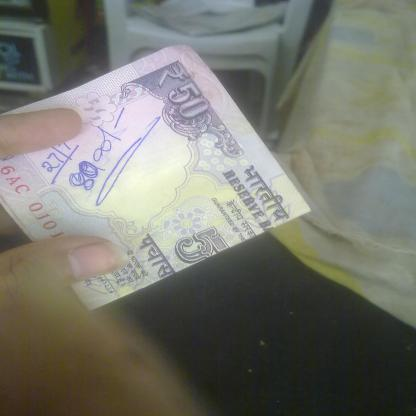Old50Front: (0, 44, 311, 312)
